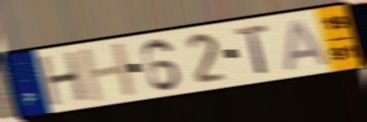2: (185, 31, 229, 86)
6: (140, 36, 182, 93)
A: (283, 17, 334, 73)
H: (77, 39, 140, 105), (38, 48, 90, 110)
T: (234, 23, 271, 77)
